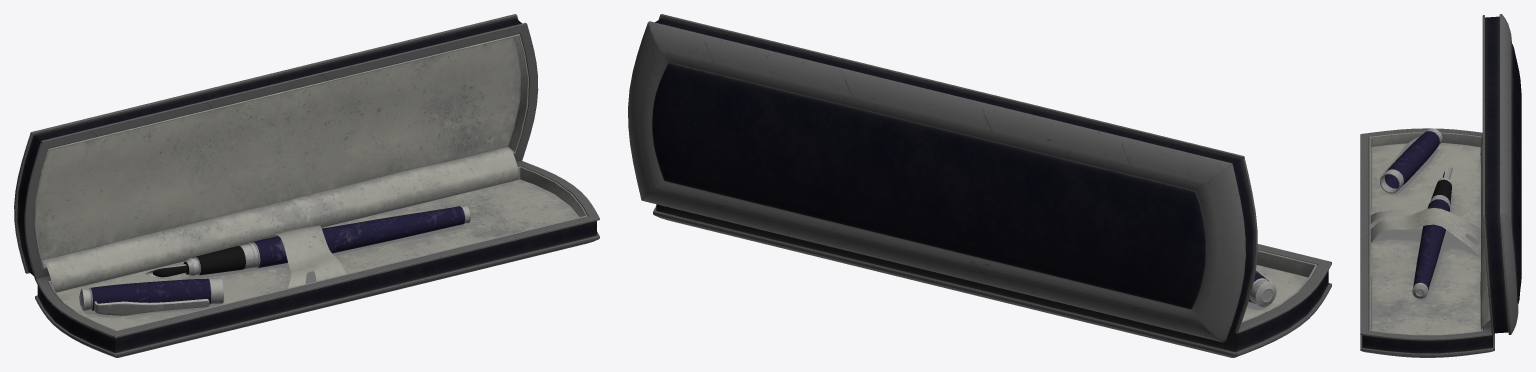
Rendered from ink_pen__case.glb.
3 renders of one model, left to right at view 1: azimuth 30°, elevation 25°; view 2: azimuth 150°, elevation 25°; view 3: azimuth 270°, elevation 25°, orthographic. The views are drawn at different scales.
Parts seen in each view (by area): view 1: Ink Pen & Case; view 2: Ink Pen & Case; view 3: Ink Pen & Case.
Part boxes in pixels (left/top/right/bottom): Ink Pen & Case: left=14, top=14, right=599, bottom=357; Ink Pen & Case: left=628, top=14, right=1331, bottom=357; Ink Pen & Case: left=1360, top=14, right=1521, bottom=357.
Bounding box in the file's own units: 0.1481 × 0.0481 × 0.048.
Materials: 1 (1 with a texture image).
